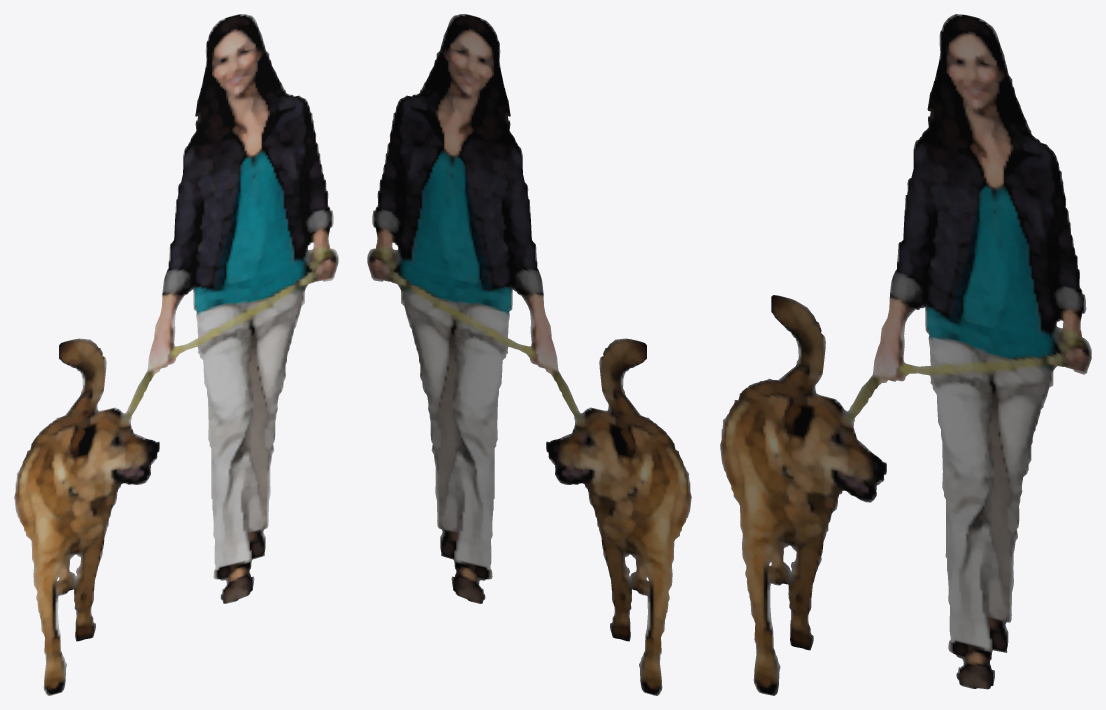
Rendered from womanwithdog.fbx.
3 renders of one model, left to right at view 1: azimuth 30°, elevation 25°; view 2: azimuth 150°, elevation 25°; view 3: azimuth 330°, elevation 25°, orthographic. The views are drawn at different scales.
Visible parts, largest first — view 1: instance_0; view 2: instance_0; view 3: instance_0.
Boxes of the visible parts, x1,y1,x2,y2 form: instance_0: (14, 14, 338, 695); instance_0: (367, 14, 691, 695); instance_0: (720, 14, 1091, 695).
Bounding box in the file's own units: 461 × 863 × 0.000141.
